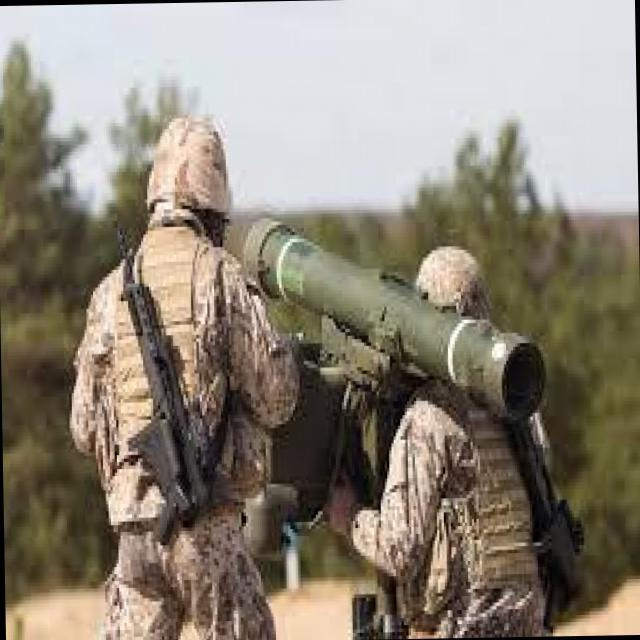rocket: (243, 210, 548, 424)
